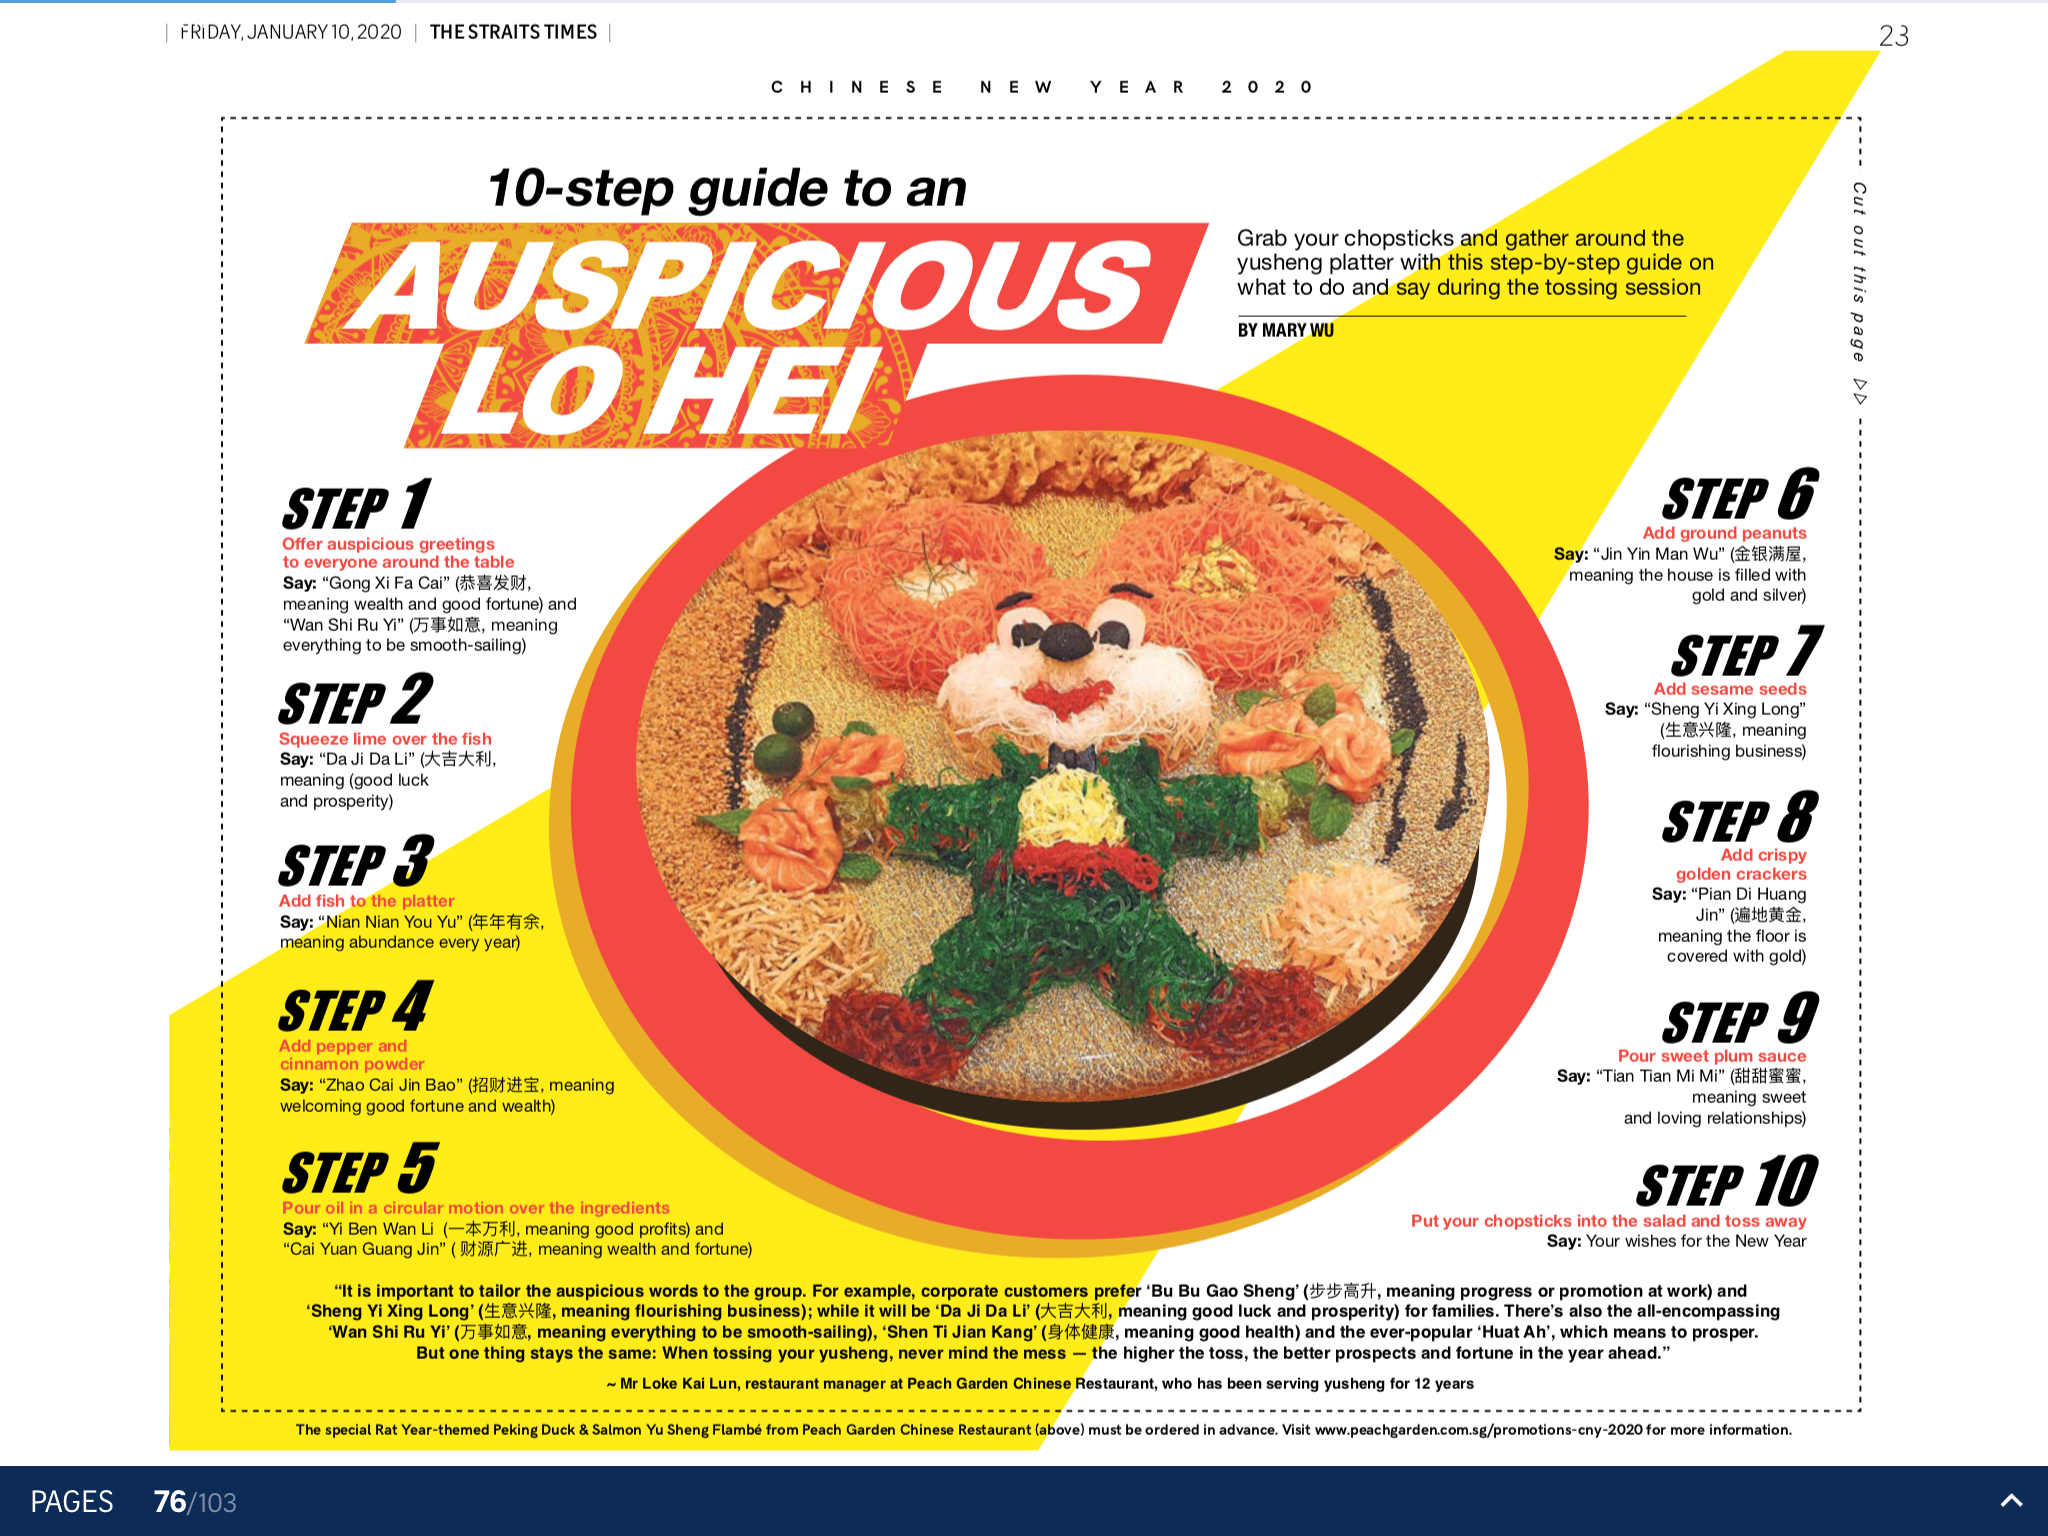Byline: (1238, 321, 1334, 337)
Headline: (345, 165, 1155, 437)
Image: (635, 432, 1490, 1131)
Text: (305, 1283, 1782, 1394), (281, 1141, 755, 1263), (281, 478, 579, 657), (277, 978, 618, 1115), (1413, 1154, 1822, 1250), (1556, 989, 1824, 1129), (1553, 466, 1821, 607), (279, 831, 545, 955), (1238, 227, 1714, 297), (1650, 787, 1822, 970), (277, 671, 498, 812), (1605, 623, 1824, 762)
